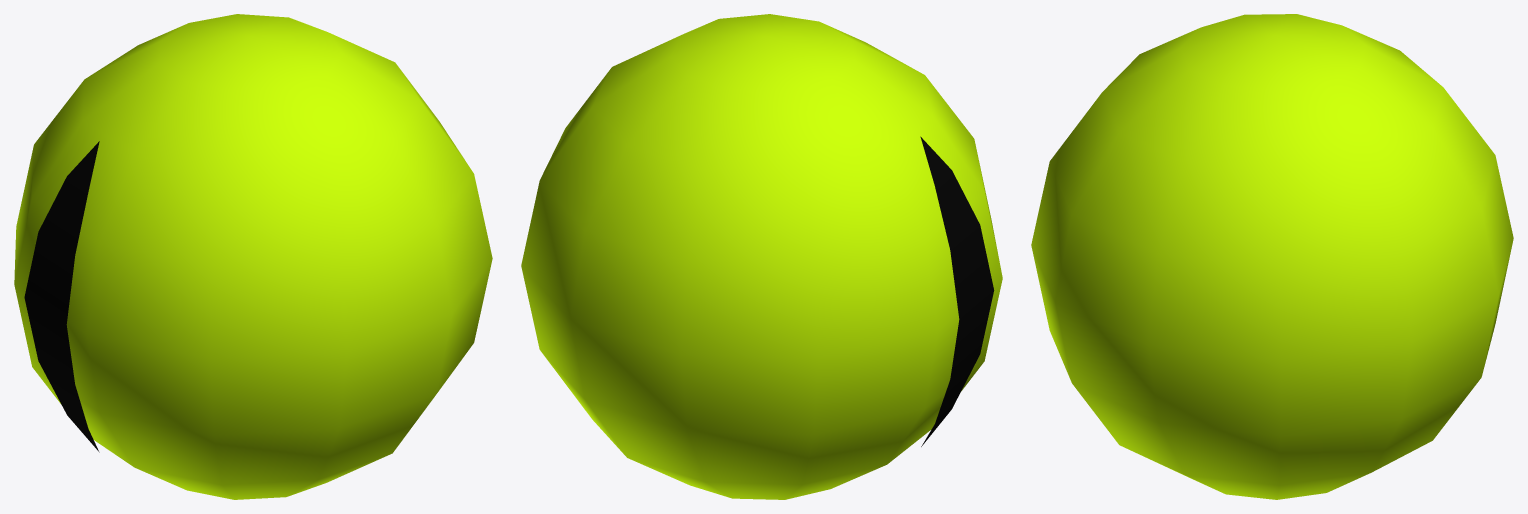
File: S_CatEye.fbx
3 views of the same model, side by side, from view 1: azimuth 30°, elevation 25°; view 2: azimuth 150°, elevation 25°; view 3: azimuth 270°, elevation 25° (orthographic).
Visible parts, largest first — view 1: S_CatEye; view 2: S_CatEye; view 3: S_CatEye.
Part boxes in pixels (x1=…): S_CatEye: x1=14, y1=14, x2=492, y2=499; S_CatEye: x1=521, y1=14, x2=1002, y2=499; S_CatEye: x1=1031, y1=14, x2=1513, y2=499.
Size of the model in its own units: 9.28 by 9.31 by 9.21.
